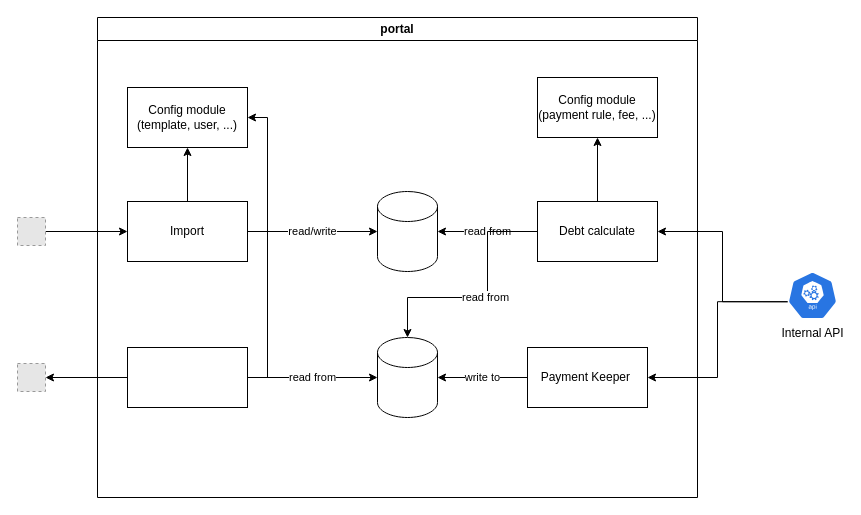
The diagram is 861 pixels wide and 515 high, and some of its shapes have lost their labels. Grey dashed boxes stand in for pictures. Here are the shapes that lost their labels. From the top down, the box of each, then its label:
(376, 190, 438, 272): debt db
(126, 346, 248, 408): Export
(376, 336, 438, 418): payment db
